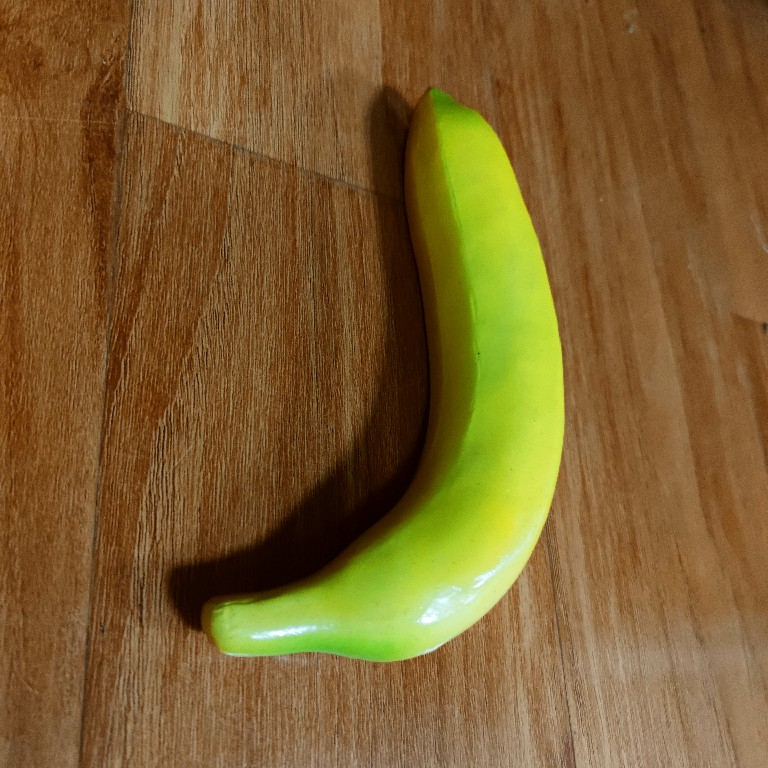fruit_banana: (189, 84, 571, 670)
